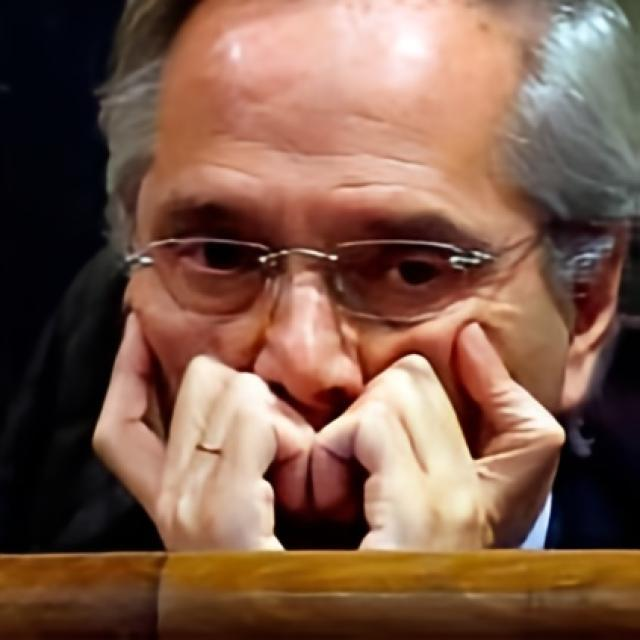sad: (130, 0, 572, 551)
